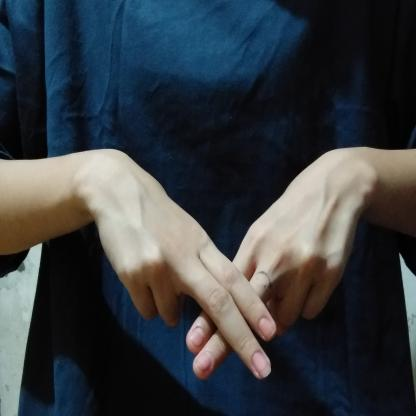father: (70, 141, 380, 390)
